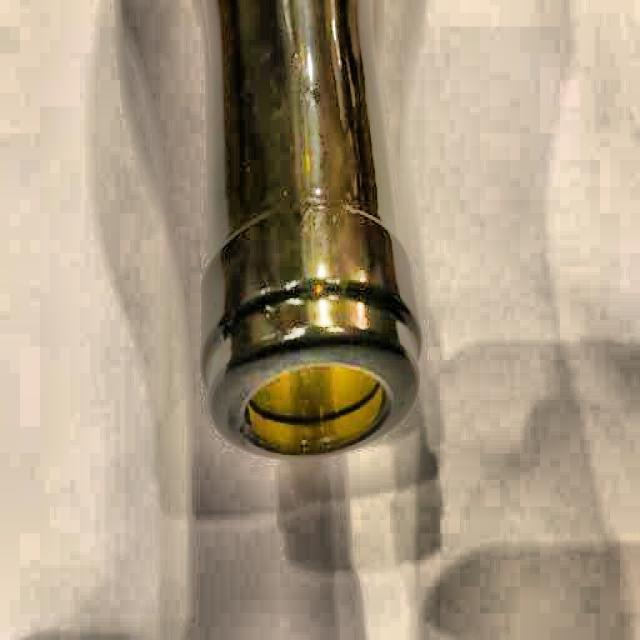glass: (192, 8, 426, 463)
